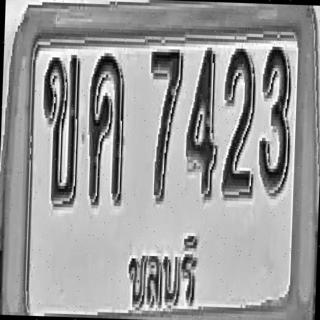A02: (40, 52, 82, 206)
A04: (86, 52, 126, 206)
N02: (221, 45, 258, 198)
N03: (257, 43, 293, 193)
N04: (184, 45, 220, 199)
N07: (146, 47, 183, 204)
P13: (117, 215, 205, 320)
